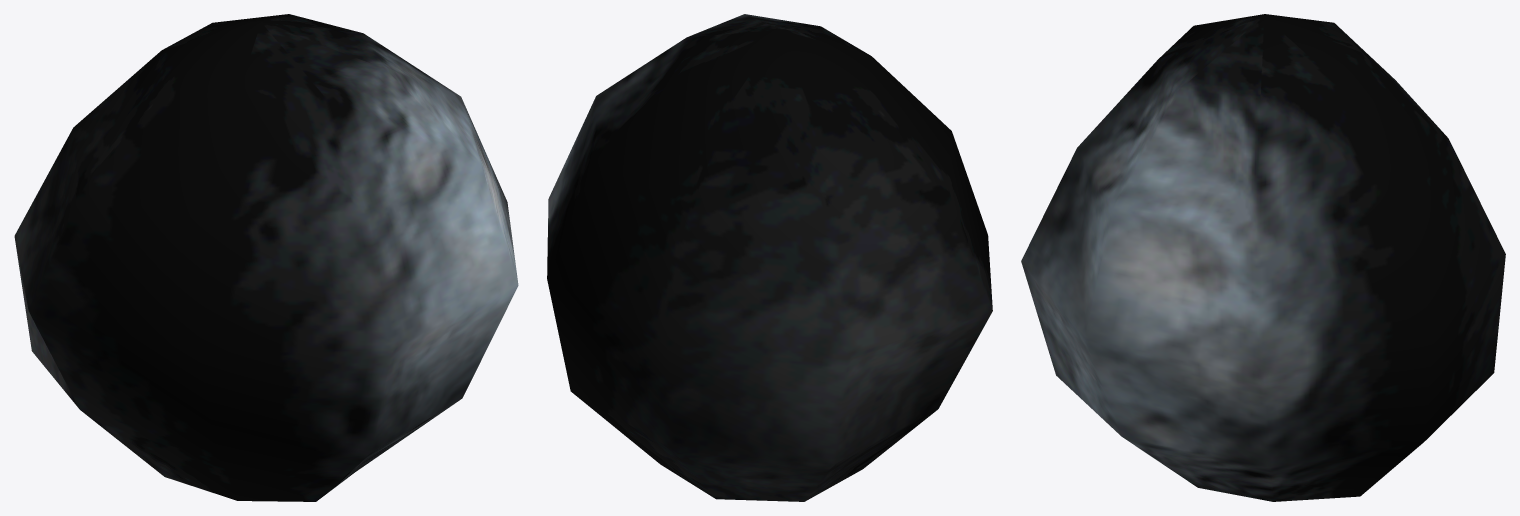
The model's file is bgrnd50.obj.
3 views of the same model, side by side, from view 1: azimuth 30°, elevation 25°; view 2: azimuth 150°, elevation 25°; view 3: azimuth 270°, elevation 25° (orthographic). The views are drawn at different scales.
Visible parts, largest first — view 1: frm-capper; view 2: frm-capper; view 3: frm-capper.
Boxes of the visible parts, bbox=[...] form: frm-capper: bbox=[14, 14, 518, 501]; frm-capper: bbox=[547, 14, 992, 501]; frm-capper: bbox=[1021, 14, 1505, 501].
Bounding box in the file's own units: 10.18 × 9.79 × 9.02.
